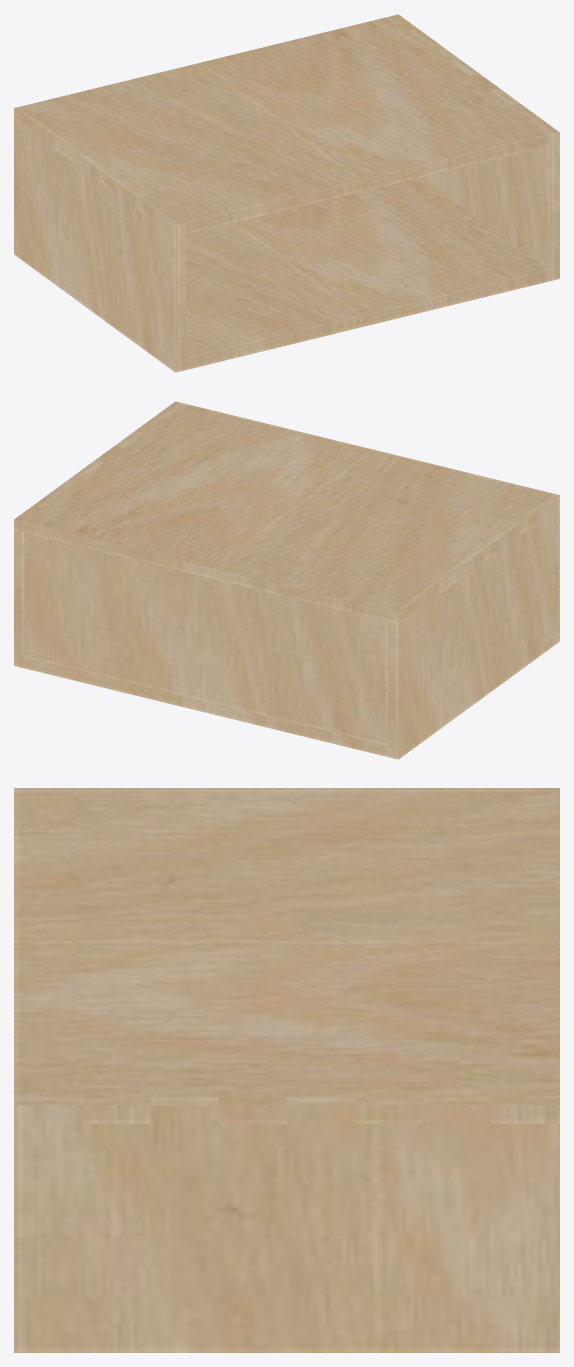
Rendered from cajas-diana-33x12x24.glb.
3 views of the same model, one above another, from view 1: azimuth 30°, elevation 25°; view 2: azimuth 150°, elevation 25°; view 3: azimuth 270°, elevation 25° (orthographic). The views are drawn at different scales.
Size of the model in its own units: 0.33 by 0.12 by 0.24.
Materials: 1 (1 with a texture image).
